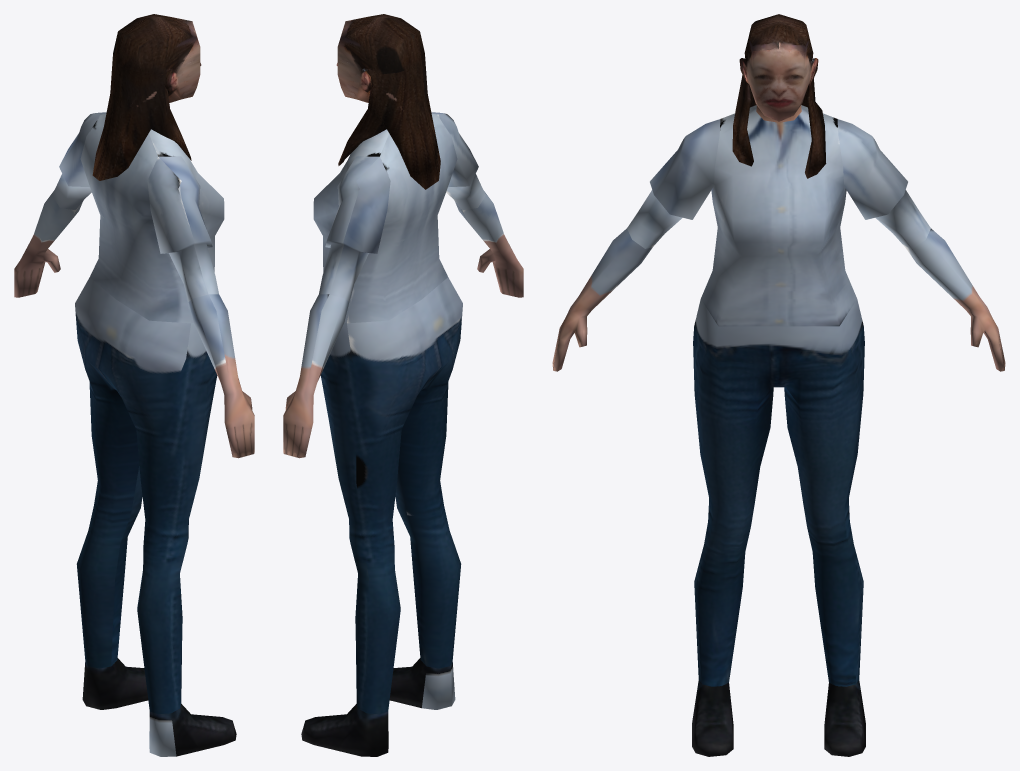
Rendered from female_prof3.fbx.
The picture shows the model from 3 angles, left to right: view 1: azimuth 30°, elevation 25°; view 2: azimuth 150°, elevation 25°; view 3: azimuth 270°, elevation 25°; orthographic projection.
Visible parts, largest first — view 1: vang.002; view 2: vang.002; view 3: vang.002.
Boxes of the visible parts, <box> form: vang.002: <box>14,14,254,756</box>; vang.002: <box>283,14,523,756</box>; vang.002: <box>552,14,1005,756</box>.
Bounding box in the file's own units: 67.32 × 429 × 246.
